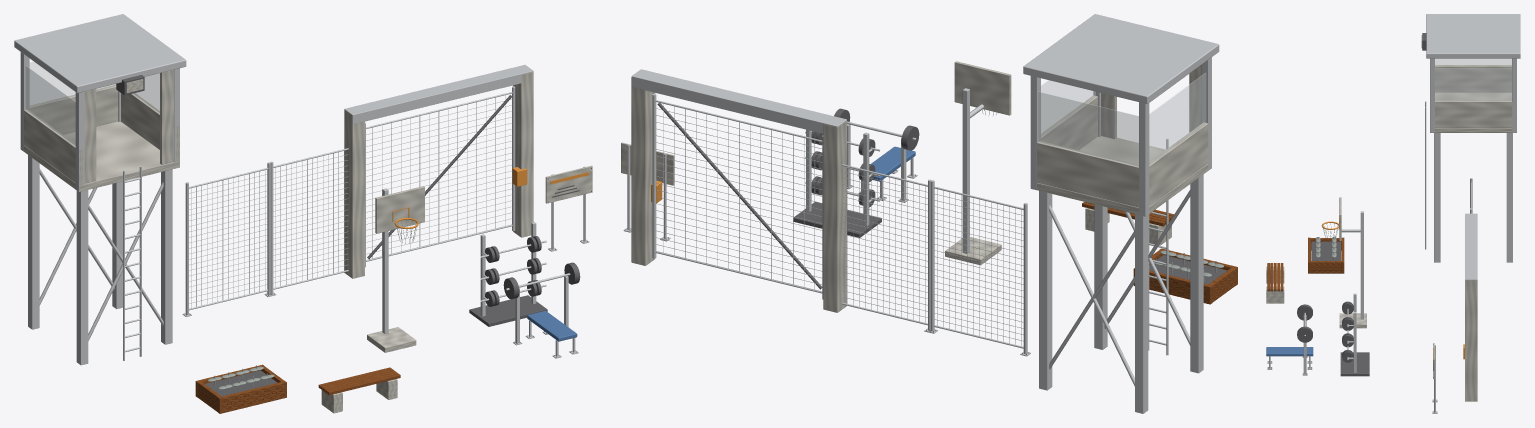
The model's file is prison-complex-builder-exercise-yard-and-gate-a3e9c107__25722.glb.
3 views of the same model, side by side, from view 1: azimuth 30°, elevation 25°; view 2: azimuth 150°, elevation 25°; view 3: azimuth 270°, elevation 25° (orthographic). The views are drawn at different scales.
Parts seen in each view (by area): view 1: 000-guard-tower/0, 000-guard-tower/4, 001-vehicle-sally-port-gate/0, 001-vehicle-sally-port-gate/sally-port-gate/steelGalv, 002-perimeter-fence-straight/0, 000-guard-tower/3, 003-perimeter-fence-straight/0, 000-guard-tower/2, 000-guard-tower/5, 001-vehicle-sally-port-gate/1, 008-garden-bed/0, 004-basketball-hoop/2 (+14 smaller); view 2: 000-guard-tower/0, 000-guard-tower/4, 000-guard-tower/5, 001-vehicle-sally-port-gate/0, 001-vehicle-sally-port-gate/sally-port-gate/steelGalv, 002-perimeter-fence-straight/0, 001-vehicle-sally-port-gate/1, 003-perimeter-fence-straight/0, 000-guard-tower/2, 000-guard-tower/3, 004-basketball-hoop/2, 008-garden-bed/0 (+13 smaller); view 3: 000-guard-tower/0, 000-guard-tower/4, 000-guard-tower/5, 001-vehicle-sally-port-gate/0, 000-guard-tower/3, 001-vehicle-sally-port-gate/1, 008-garden-bed/0, 006-gym-weight-rack/4, 006-gym-weight-rack/1, 004-basketball-hoop/1, 005-yard-bench/2, 008-garden-bed/1 (+7 smaller).
Boxes of the visible parts, x1,y1,x2,y2 form: 000-guard-tower/0: (14,14,186,365); 000-guard-tower/4: (24,69,179,184); 001-vehicle-sally-port-gate/0: (344,72,533,278); 001-vehicle-sally-port-gate/sally-port-gate/steelGalv: (365,86,515,267); 002-perimeter-fence-straight/0: (185,162,270,314); 000-guard-tower/3: (24,121,179,191); 003-perimeter-fence-straight/0: (270,151,348,294); 000-guard-tower/2: (39,166,163,360); 000-guard-tower/5: (26,61,159,145); 001-vehicle-sally-port-gate/1: (344,65,533,124); 008-garden-bed/0: (195,364,286,413); 004-basketball-hoop/2: (375,186,424,233); 000-guard-tower/0: (1023,14,1219,413); 000-guard-tower/4: (1037,65,1208,207); 000-guard-tower/5: (1038,73,1205,165); 001-vehicle-sally-port-gate/0: (631,77,846,312); 001-vehicle-sally-port-gate/sally-port-gate/steelGalv: (652,93,823,299); 002-perimeter-fence-straight/0: (930,180,1027,354); 001-vehicle-sally-port-gate/1: (631,69,846,133); 003-perimeter-fence-straight/0: (842,167,931,330); 000-guard-tower/2: (1049,138,1190,386); 000-guard-tower/3: (1037,136,1208,214); 004-basketball-hoop/2: (954,61,1011,115); 008-garden-bed/0: (1133,248,1237,304); 000-guard-tower/0: (1426,14,1520,262); 000-guard-tower/4: (1435,65,1512,127); 000-guard-tower/5: (1435,59,1511,100); 001-vehicle-sally-port-gate/0: (1465,280,1477,401); 000-guard-tower/3: (1435,92,1512,132); 001-vehicle-sally-port-gate/1: (1465,213,1477,285); 008-garden-bed/0: (1308,237,1344,273); 006-gym-weight-rack/4: (1340,352,1369,376); 006-gym-weight-rack/1: (1342,301,1353,362); 004-basketball-hoop/1: (1341,211,1363,319); 005-yard-bench/2: (1267,263,1283,291); 008-garden-bed/1: (1311,241,1340,260).
Size of the model in its own units: 12.35 by 6.46 by 7.01.
8 materials, 2 textured.
